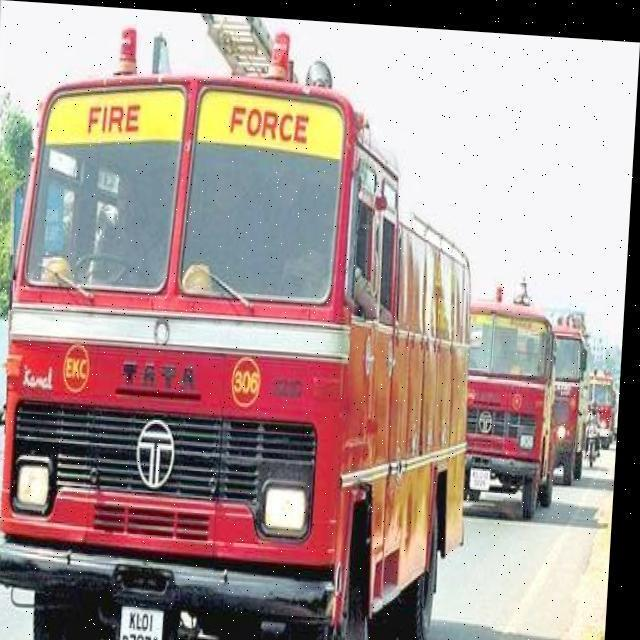Ambulance: (0, 7, 494, 640), (0, 391, 620, 640), (388, 415, 620, 640), (462, 266, 570, 516), (548, 300, 598, 480)
